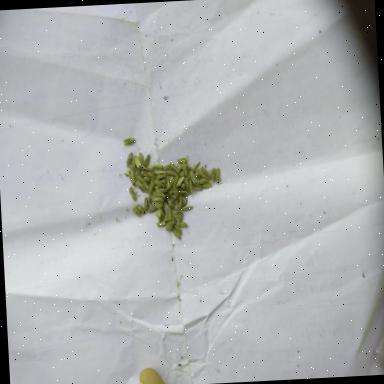pbw: (164, 218, 176, 230), (125, 152, 133, 168), (128, 186, 136, 200), (168, 162, 179, 172), (136, 203, 146, 214), (175, 175, 185, 186), (142, 153, 150, 166), (181, 162, 188, 176), (189, 170, 196, 184), (171, 184, 178, 198), (175, 220, 187, 228), (122, 137, 134, 145), (166, 198, 174, 210), (147, 180, 154, 193), (180, 196, 188, 207), (137, 152, 143, 166), (127, 170, 134, 182), (134, 154, 140, 168), (136, 180, 144, 190), (174, 224, 182, 234), (172, 228, 180, 238), (215, 166, 220, 182), (192, 160, 200, 170), (132, 206, 140, 216), (146, 171, 156, 179), (201, 181, 212, 188), (188, 178, 193, 193), (198, 169, 206, 178), (176, 162, 188, 168), (156, 188, 164, 197), (151, 201, 161, 208), (152, 163, 162, 170), (166, 169, 176, 176), (184, 178, 189, 192), (210, 167, 215, 181), (141, 180, 148, 190), (178, 157, 188, 164), (162, 201, 168, 212), (140, 164, 148, 172), (201, 167, 209, 175), (156, 219, 165, 226), (142, 167, 154, 172), (168, 175, 174, 185), (199, 178, 209, 184), (182, 204, 192, 210), (162, 164, 170, 171), (144, 196, 148, 210), (134, 174, 142, 181), (157, 172, 166, 178), (149, 207, 157, 213), (154, 180, 162, 186), (158, 187, 167, 192), (143, 176, 150, 182), (178, 170, 184, 177), (154, 196, 162, 201), (154, 169, 164, 173), (157, 208, 162, 216), (192, 187, 200, 190)
